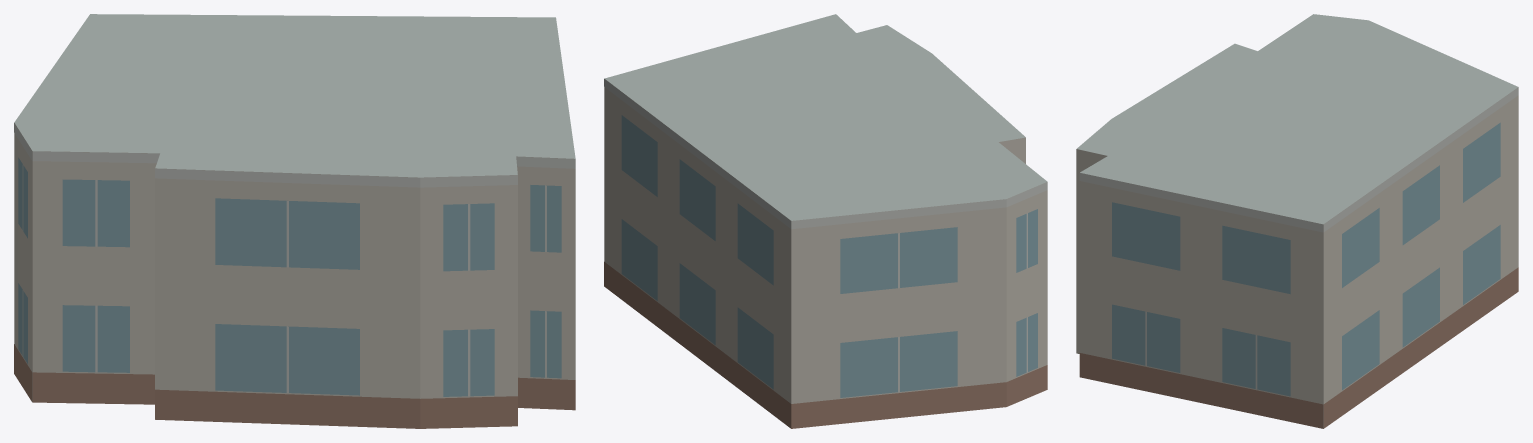
The model's file is survey-upis-33046212.glb.
3 renders of one model, left to right at view 1: azimuth 30°, elevation 25°; view 2: azimuth 150°, elevation 25°; view 3: azimuth 270°, elevation 25°, orthographic. The views are drawn at different scales.
Parts seen in each view (by area): view 1: survey-upis-33046212.tmp; view 2: survey-upis-33046212.tmp; view 3: survey-upis-33046212.tmp.
Boxes of the visible parts, x1,y1,x2,y2 form: survey-upis-33046212.tmp: [14, 14, 575, 428]; survey-upis-33046212.tmp: [604, 14, 1047, 428]; survey-upis-33046212.tmp: [1076, 14, 1518, 428].
Bounding box in the file's own units: 13.47 × 6.1 × 11.97.
